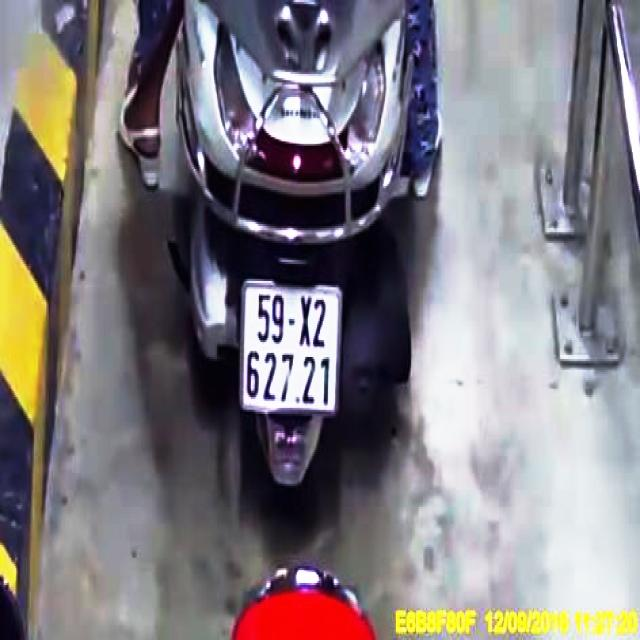license_plate: (243, 282, 343, 415)
